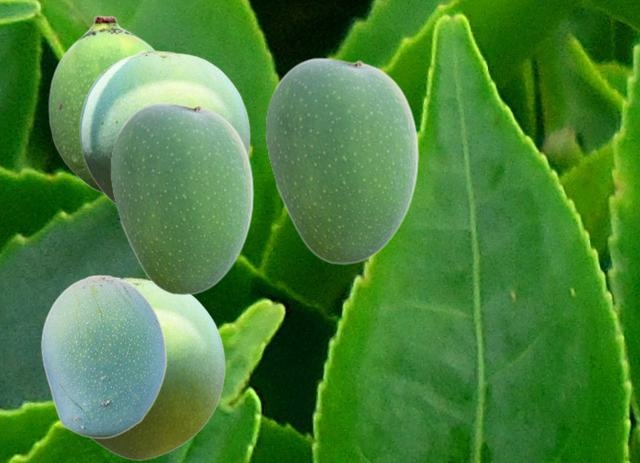green_mango: (265, 57, 418, 263), (110, 102, 253, 294), (79, 49, 249, 206), (89, 276, 224, 459), (40, 274, 166, 438), (48, 15, 155, 196)
